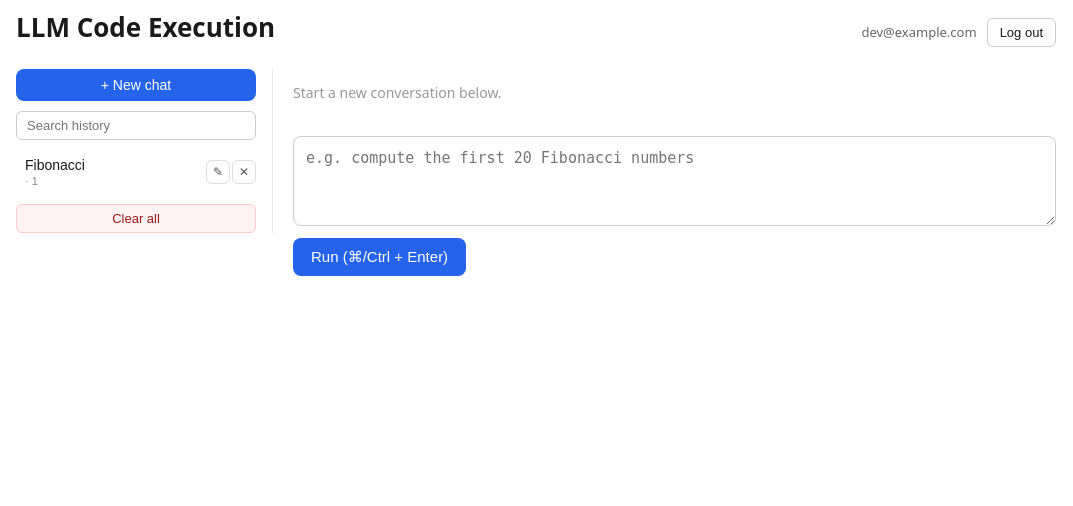
Test: App › loads and renders a session's runs when a session is selected
Click the text "Fibonacci".
click(55, 165)  # box [25,157,85,173]
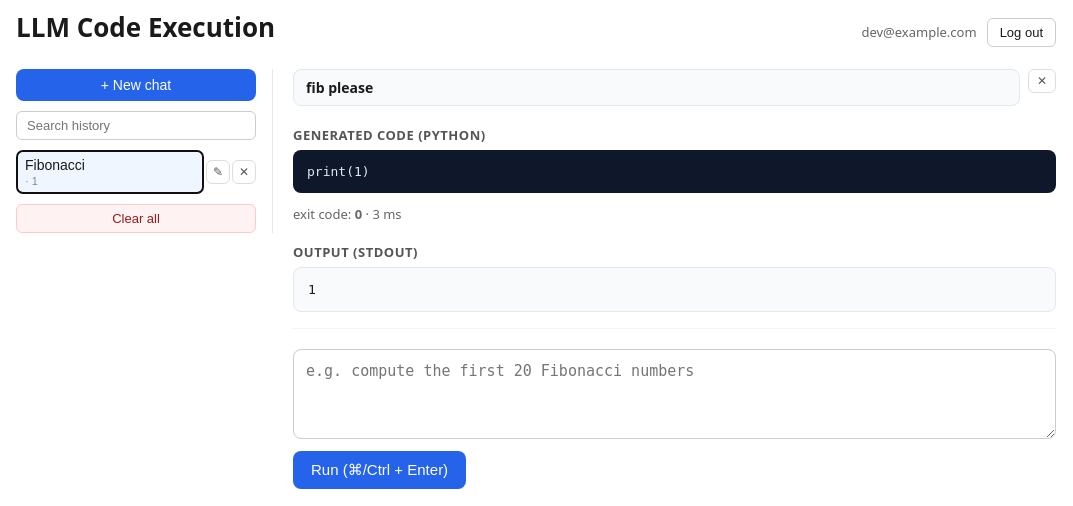
Expected: the text "fib please" is shown, [293,69,1020,106]
Expected: the text "print(1)" is shown, [293,150,1056,193]
